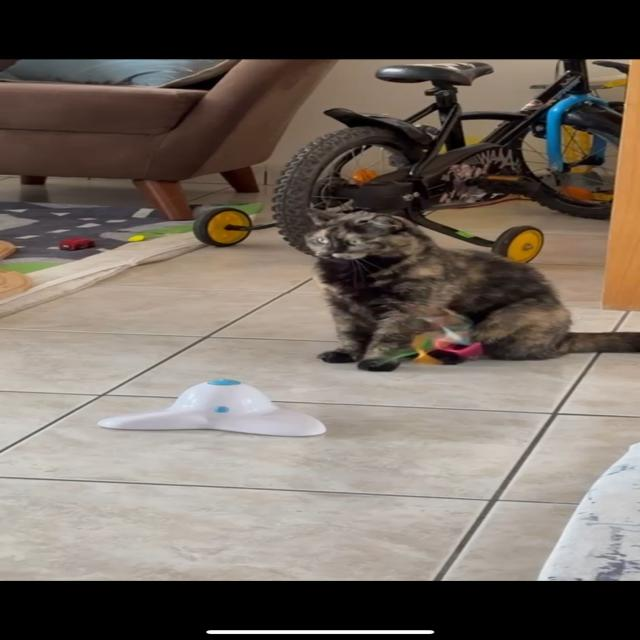authorized: (301, 204, 638, 371)
